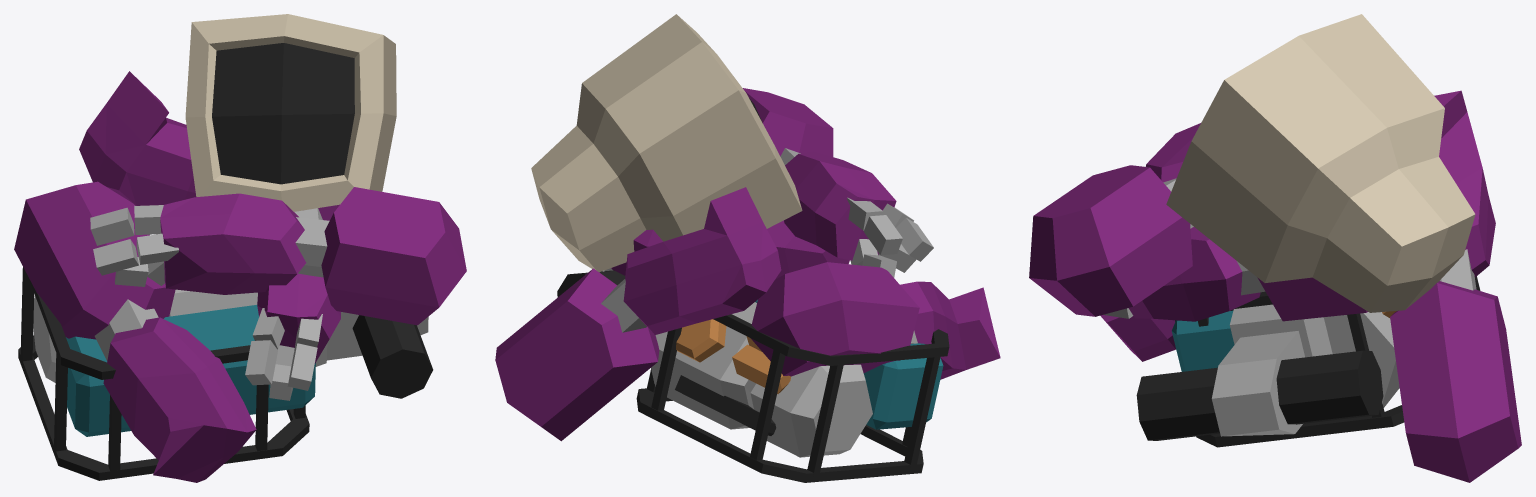
Rendered from friend_pieces.fbx.
3 renders of one model, left to right at view 1: azimuth 30°, elevation 25°; view 2: azimuth 150°, elevation 25°; view 3: azimuth 270°, elevation 25°, orthographic. The views are drawn at different scales.
Visible parts, largest first — view 1: pieces_merged; view 2: pieces_merged; view 3: pieces_merged.
Boxes of the visible parts, box(x1,y1,x2,y2) form: pieces_merged: box(14, 14, 466, 482); pieces_merged: box(495, 14, 1000, 482); pieces_merged: box(1029, 14, 1521, 482).
Size of the model in its own units: 3.89 by 3.88 by 3.97.
